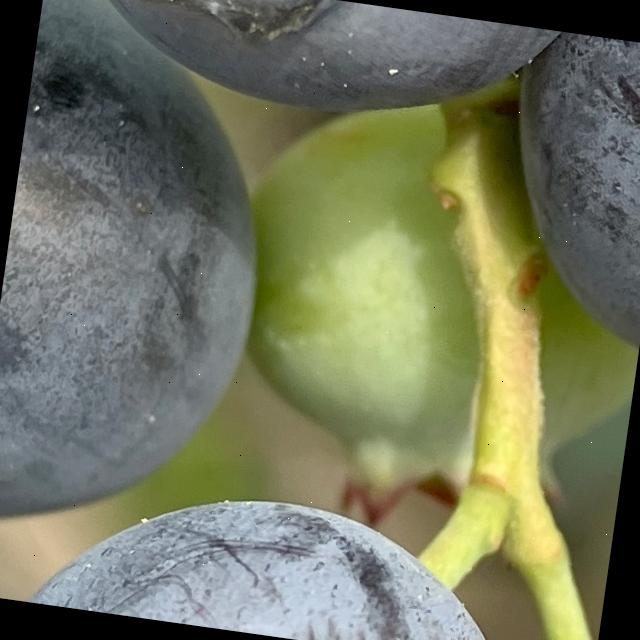Blueberries: (0, 449, 574, 640)
